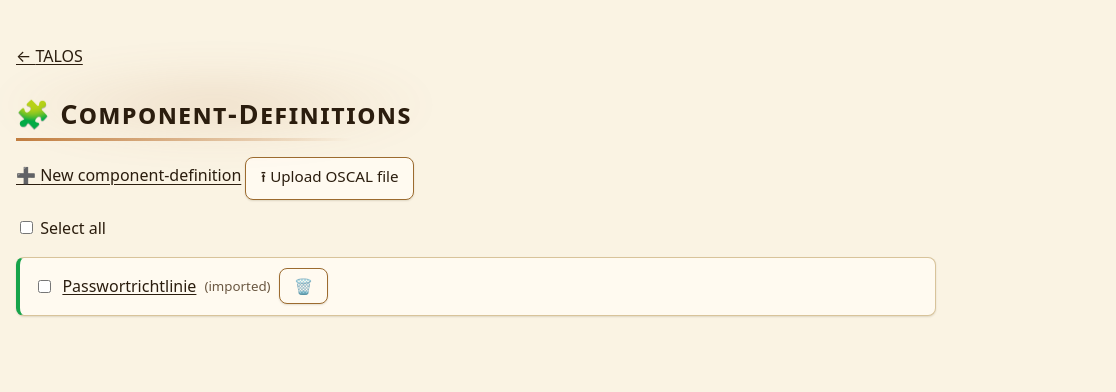
Test: bulk selection (ADR-0027) › download-selected surfaces a skip warning for an item with no valid creator (ADR-0019), without downloading
Click the checkbox with test id "compdef-select-item": [45, 286] box [38,280,51,293]
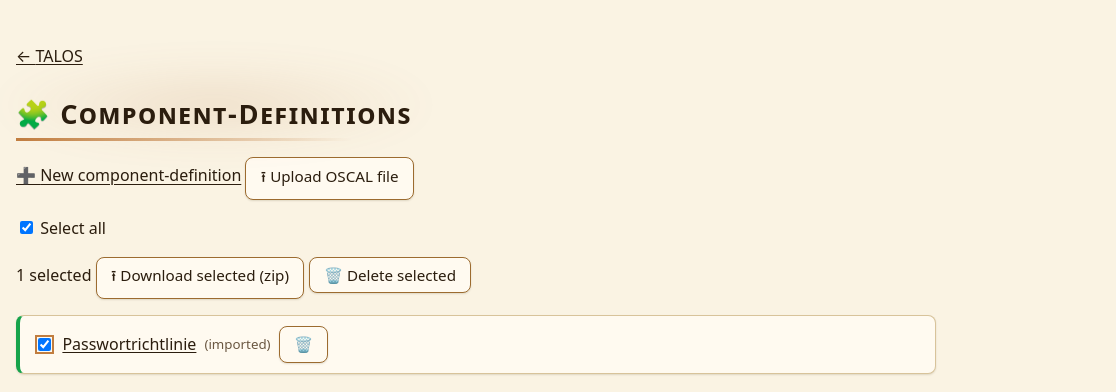
Click the button with test id "compdef-download-selected": [200, 278] box [96,256,304,299]
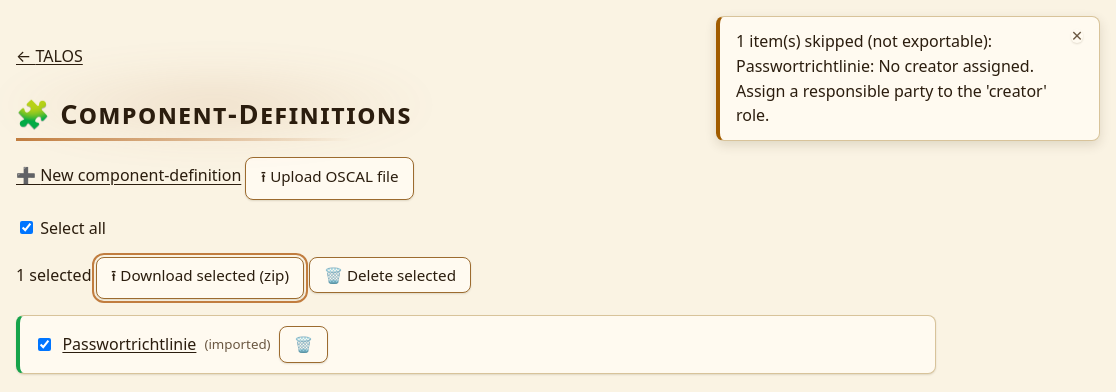
Now the message with test id "toast" shows "1", box [736,30,1047,126]
Now the message with test id "toast" shows "Passwortrichtlinie", box [736,30,1047,126]
